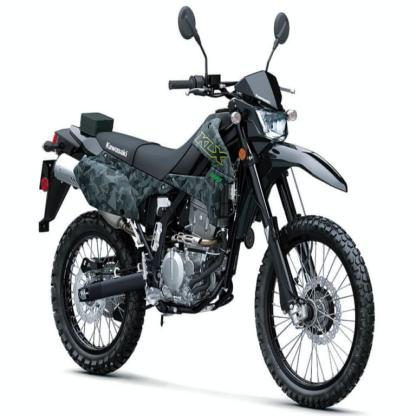Motorcycle: (29, 0, 378, 409)
